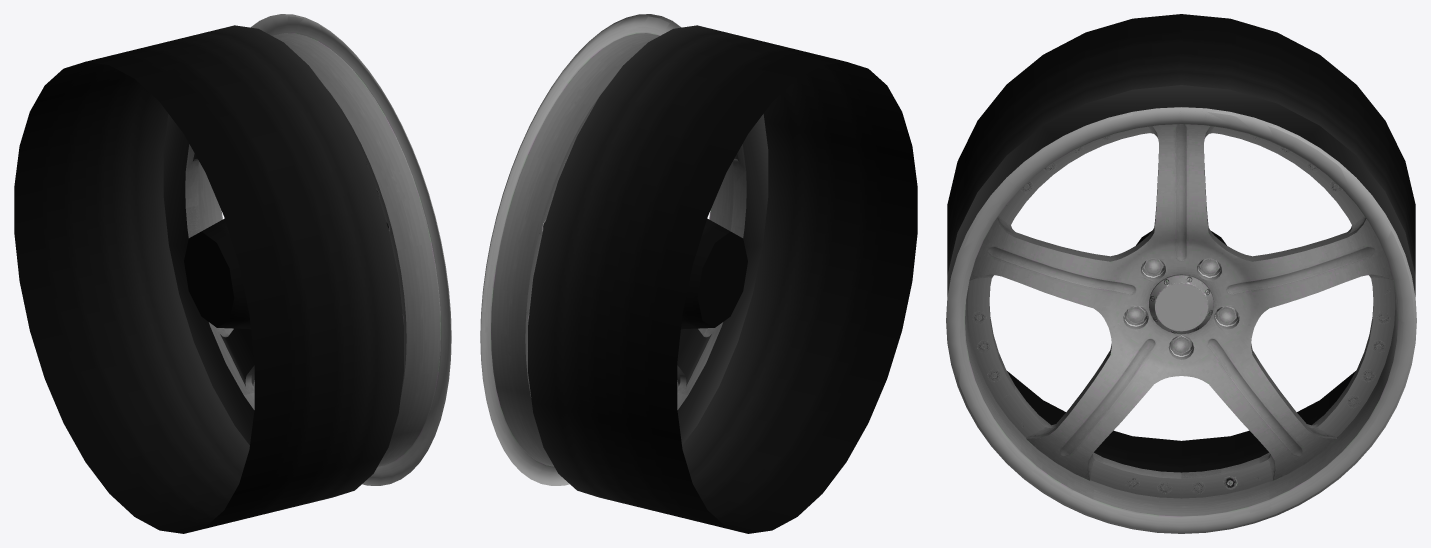
The model's file is wheel12.fbx.
The picture shows the model from 3 angles, left to right: view 1: azimuth 30°, elevation 25°; view 2: azimuth 150°, elevation 25°; view 3: azimuth 270°, elevation 25°; orthographic projection. The views are drawn at different scales.
Visible parts, largest first — view 1: asa_af118_wheel_wheel_inner_rim_, wheel_rim, asa_af118_wheel_wheel_chrome_rim_; view 2: asa_af118_wheel_wheel_inner_rim_, wheel_rim, asa_af118_wheel_wheel_chrome_rim_; view 3: asa_af118_wheel_wheel_chrome_rim_, asa_af118_wheel_wheel_inner_rim_, wheel_rim.
Boxes of the visible parts, <box> form: asa_af118_wheel_wheel_inner_rim_: <box>14,25,403,533</box>; wheel_rim: <box>185,14,451,484</box>; asa_af118_wheel_wheel_chrome_rim_: <box>185,14,451,485</box>; asa_af118_wheel_wheel_inner_rim_: <box>528,25,917,533</box>; wheel_rim: <box>480,14,746,484</box>; asa_af118_wheel_wheel_chrome_rim_: <box>480,14,745,485</box>; asa_af118_wheel_wheel_chrome_rim_: <box>957,110,1415,533</box>; asa_af118_wheel_wheel_inner_rim_: <box>947,14,1415,472</box>; wheel_rim: <box>946,107,1416,533</box>.
Size of the model in its own units: 0.2295 by 0.48 by 0.48.
Materials: 1 (1 with a texture image).
